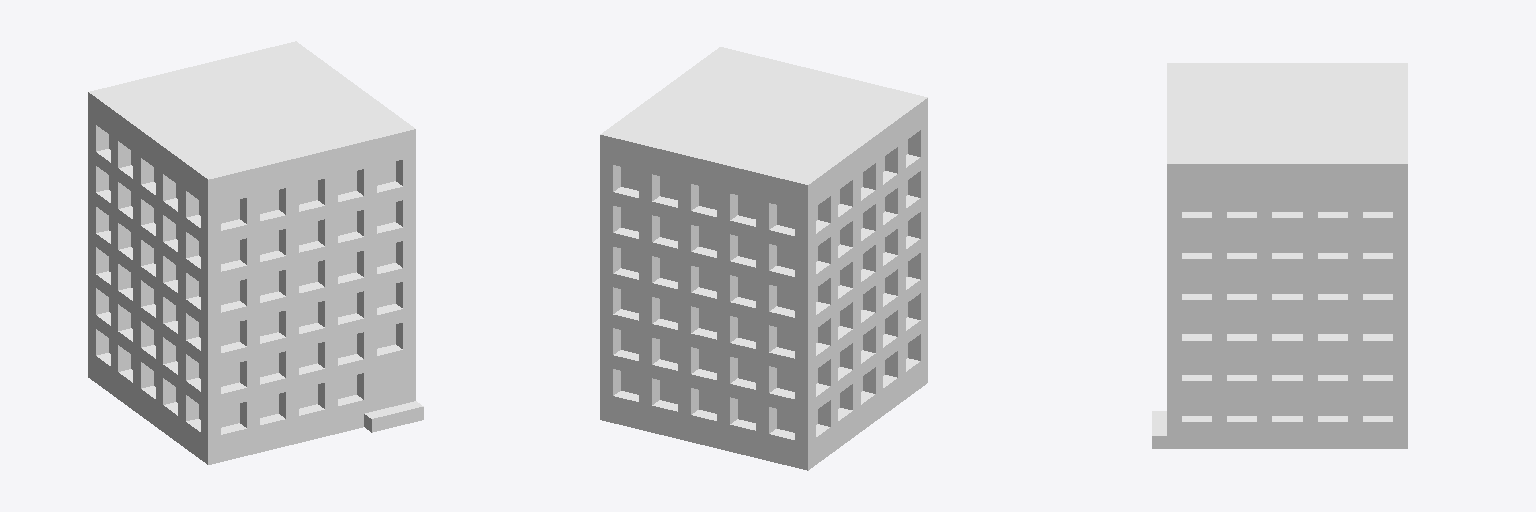
File: building1.vox.obj
The picture shows the model from 3 angles: view 1: azimuth 30°, elevation 25°; view 2: azimuth 150°, elevation 25°; view 3: azimuth 270°, elevation 25°; orthographic projection.
Visible parts, largest first — view 1: object 1; view 2: object 1; view 3: object 1.
Boxes of the visible parts, x1=… form: object 1: x1=88, y1=41, x2=423, y2=464; object 1: x1=600, y1=47, x2=927, y2=470; object 1: x1=1152, y1=63, x2=1407, y2=448.
Size of the model in its own units: 1.6 by 2.1 by 1.7.